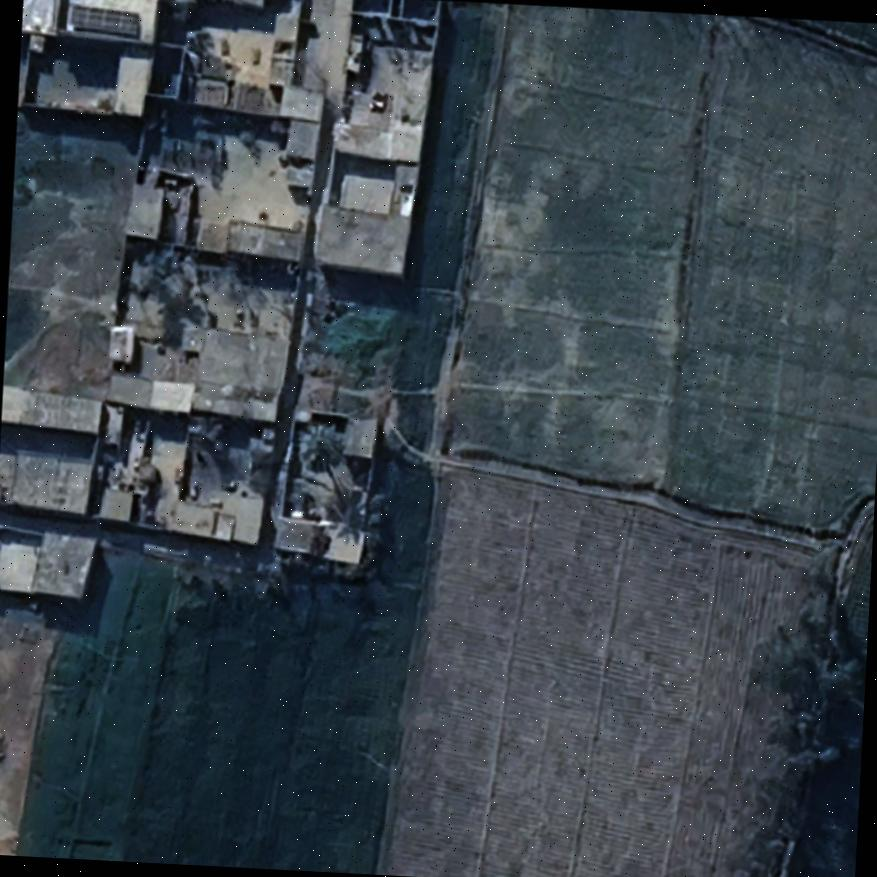Solarpanel: (67, 2, 144, 38)
